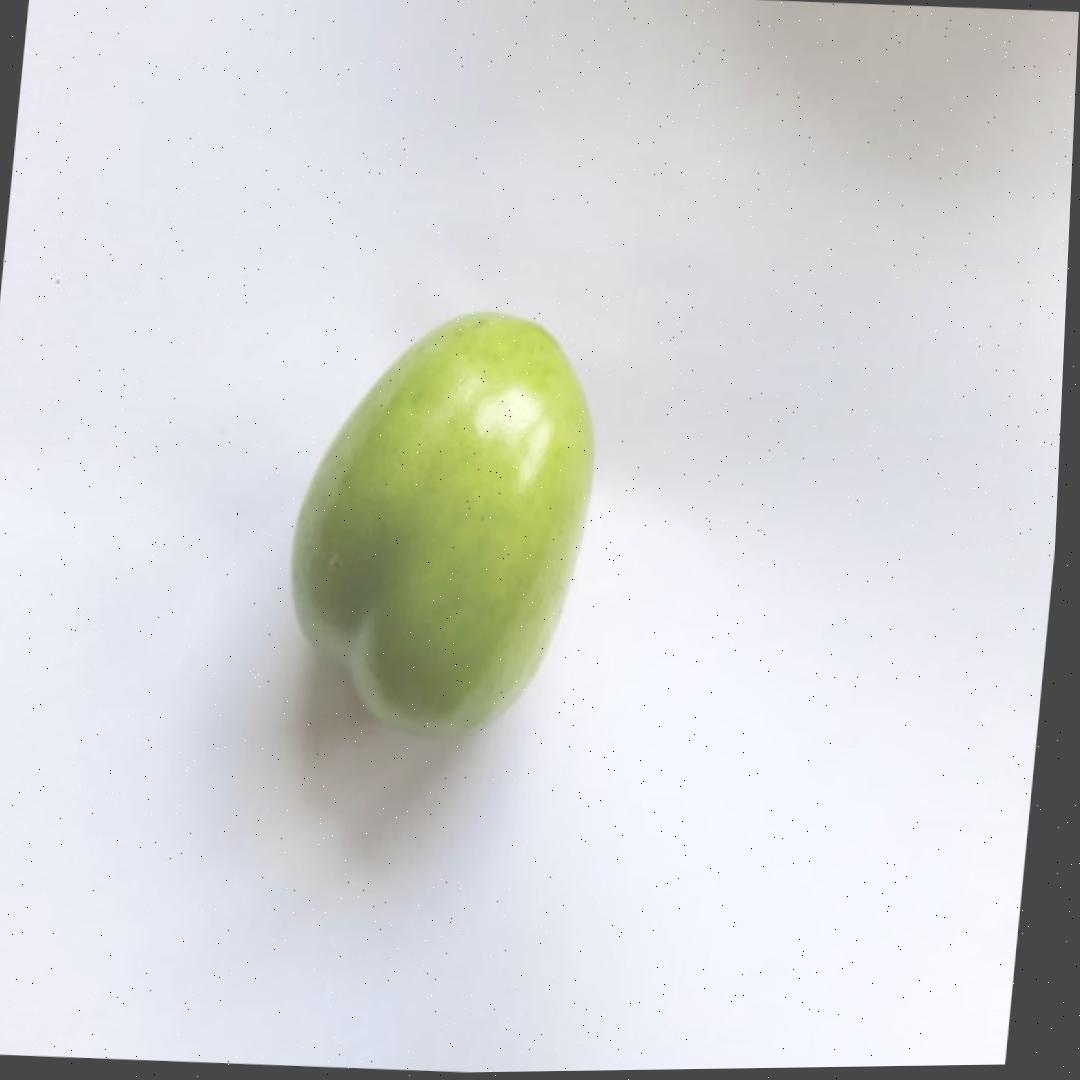mentah: (270, 298, 609, 748)
